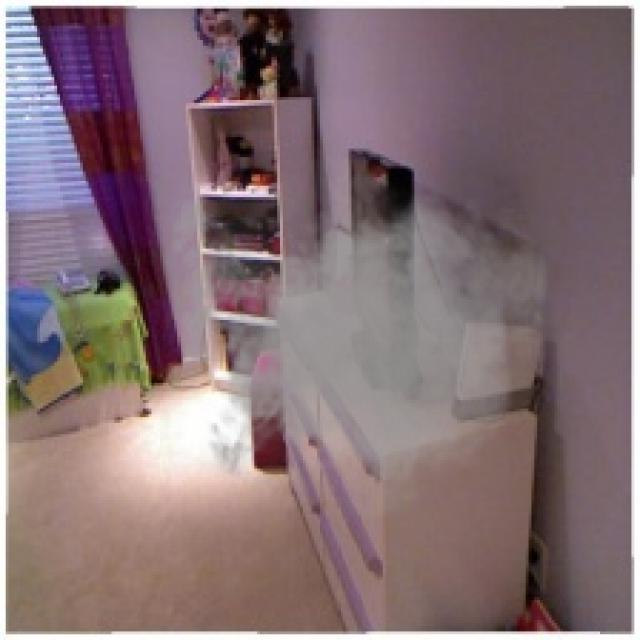smoke: (160, 137, 554, 537)
